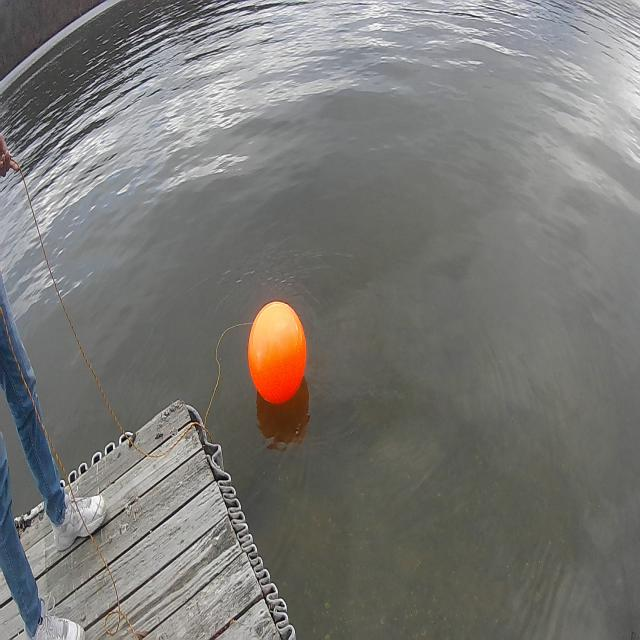Buoy: (248, 298, 308, 412)
